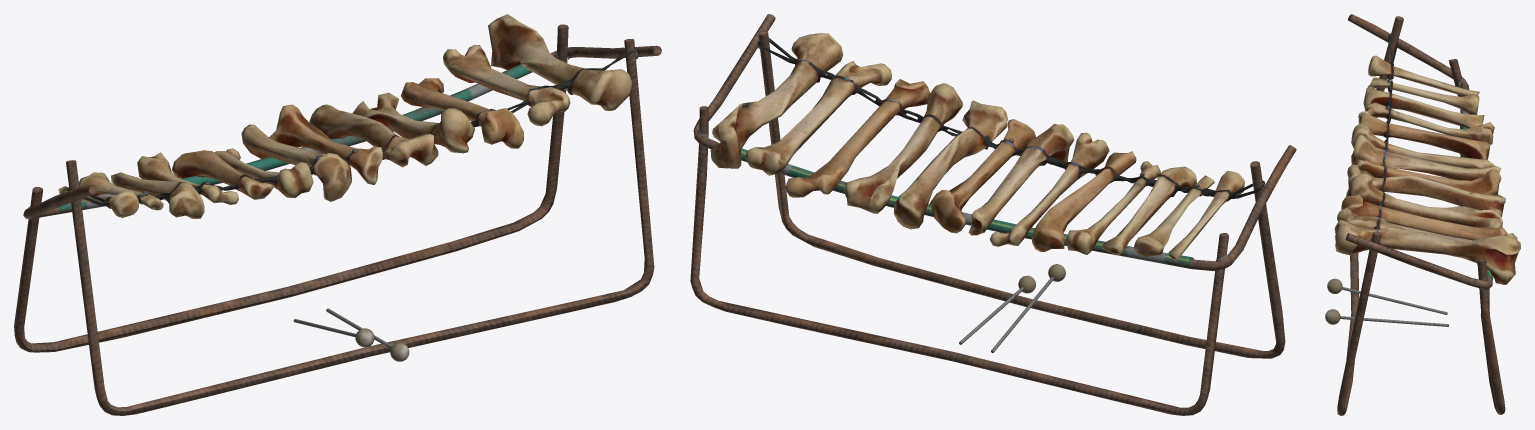
File: xylophone.deployed.glb
3 renders of one model, left to right at view 1: azimuth 30°, elevation 25°; view 2: azimuth 150°, elevation 25°; view 3: azimuth 270°, elevation 25°, orthographic. The views are drawn at different scales.
Parts seen in each view (by area): view 1: w_xylophone; view 2: w_xylophone, mallet_r, mallet_l; view 3: w_xylophone, mallet_l, mallet_r.
Part boxes in pixels (x1,y1,x2,y2): w_xylophone: [14, 14, 661, 415]; w_xylophone: [690, 14, 1296, 415]; mallet_r: [991, 264, 1065, 352]; mallet_l: [959, 275, 1035, 344]; w_xylophone: [1334, 14, 1520, 415]; mallet_l: [1325, 309, 1448, 326]; mallet_r: [1327, 278, 1447, 314].
Bounding box in the file's own units: 1.5 × 0.621 × 0.5515.
Materials: 1 (1 with a texture image).
